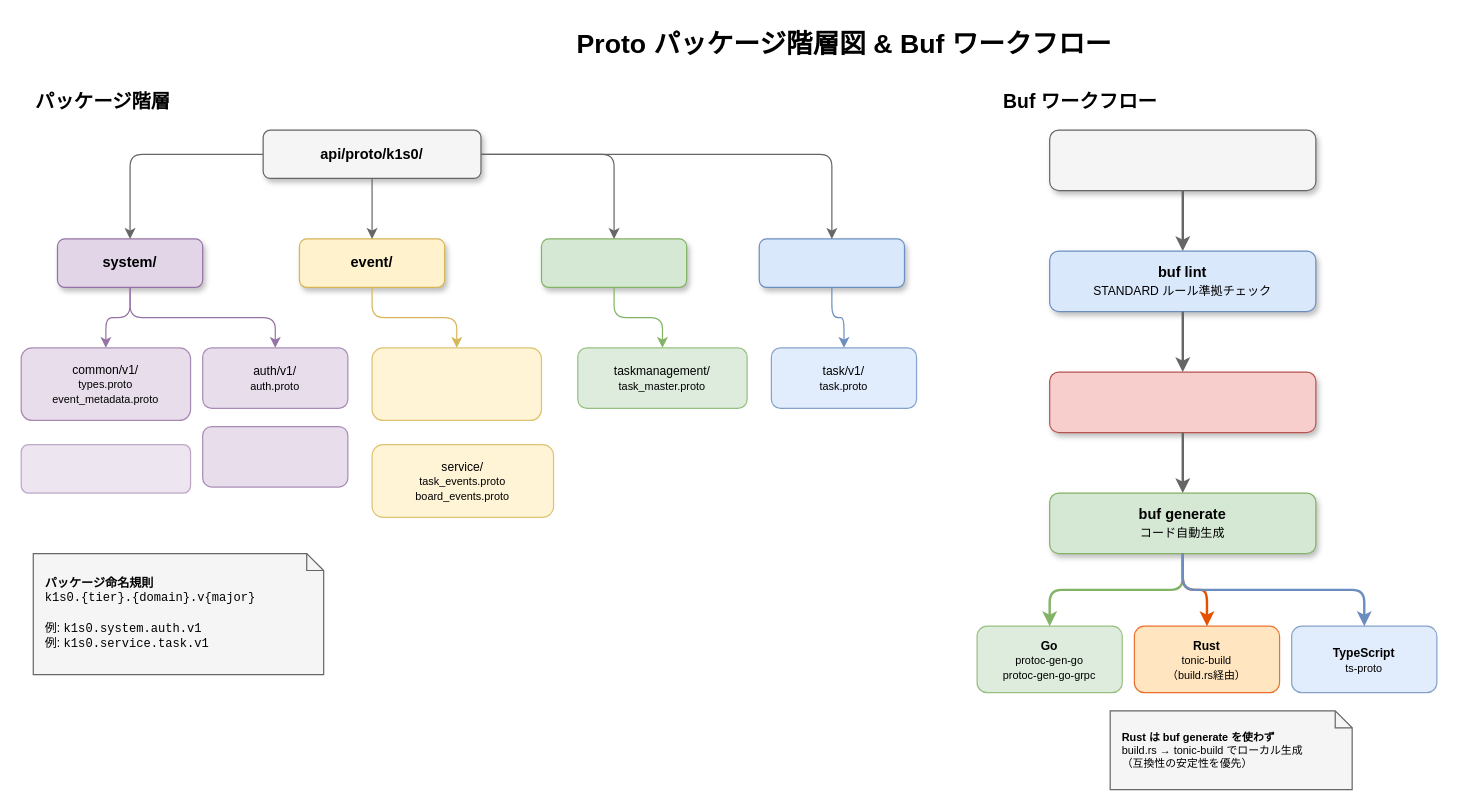
Image size: 1458x811. Some labels were removed from this diagram. The shapes that lost their labels are listed below. From the top down, each one's centre as x and y in pixels, then its label:
At (1183,161): ".proto ファイル api/proto/k1s0/**/*.proto".
At (614,264): "business/".
At (832,264): "service/".
At (456,383): "system/ auth_events.proto config_events.proto".
At (1183,403): "buf breaking 破壊的変更検出（FILE ルール）".
At (105,468): "saga/ featureflag/ ratelimit/ vault/ ...".
At (274,456): "config/v1/ config.proto".
